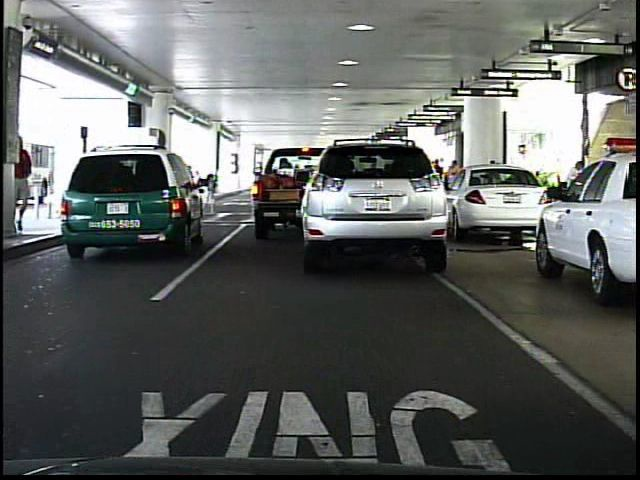person: (10, 132, 37, 240), (197, 169, 222, 223), (447, 157, 462, 177)
